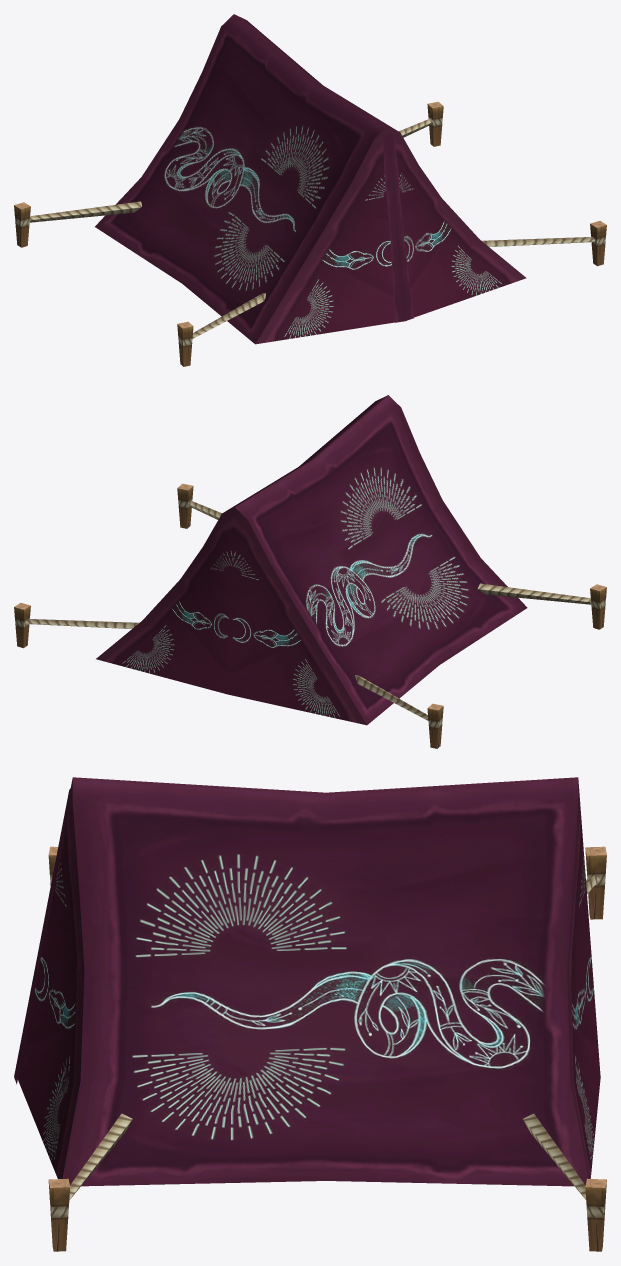
Rendered from KindledSpirits-Tent.fbx.
The picture shows the model from 3 angles, top to bottom: view 1: azimuth 30°, elevation 25°; view 2: azimuth 150°, elevation 25°; view 3: azimuth 270°, elevation 25°; orthographic projection. The views are drawn at different scales.
Parts seen in each view (by area): view 1: Tent-LOD0; view 2: Tent-LOD0; view 3: Tent-LOD0.
Part boxes in pixels (bbox=[...]): Tent-LOD0: bbox=[14, 14, 606, 366]; Tent-LOD0: bbox=[14, 395, 606, 748]; Tent-LOD0: bbox=[14, 777, 606, 1251].
Size of what is drawn, in the model's own units: 869 by 363 by 639.
